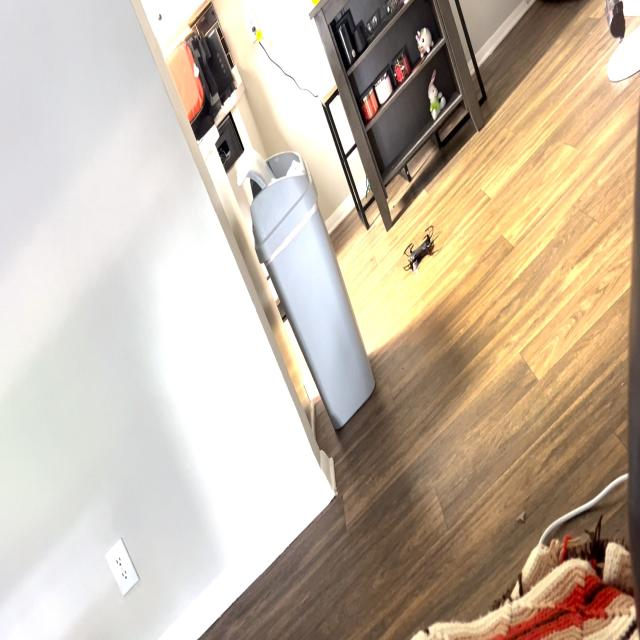drone: (398, 214, 442, 287)
